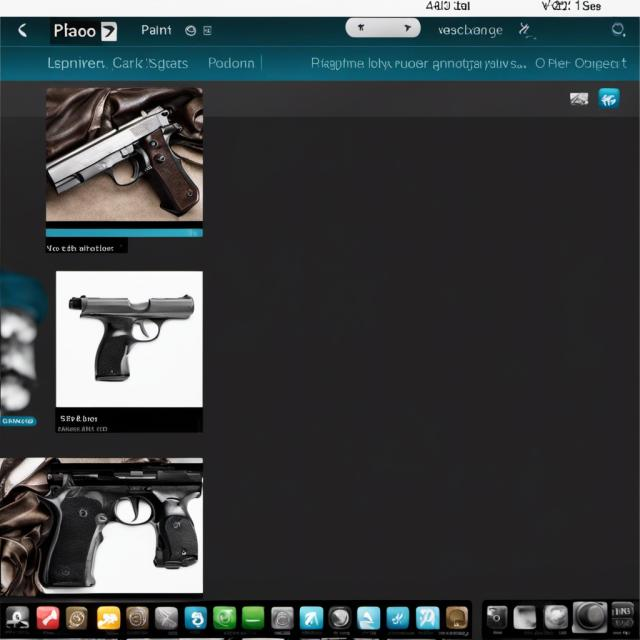gun: (46, 458, 208, 588), (40, 105, 200, 214), (68, 294, 200, 386)
